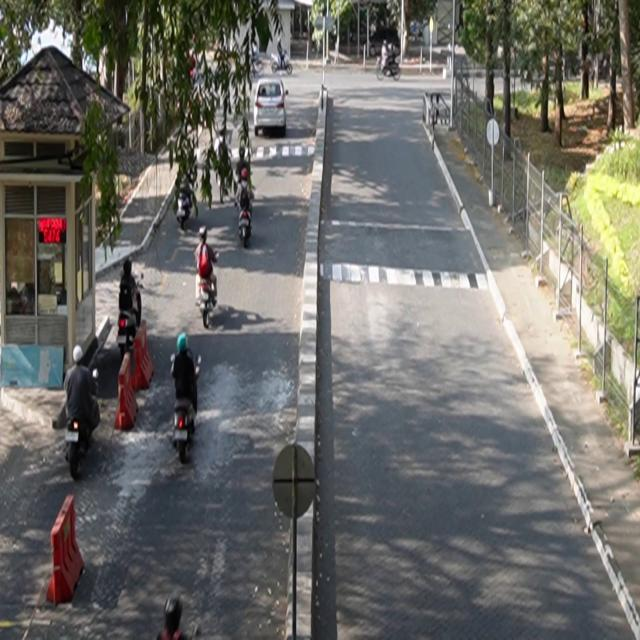car: (255, 78, 290, 137)
